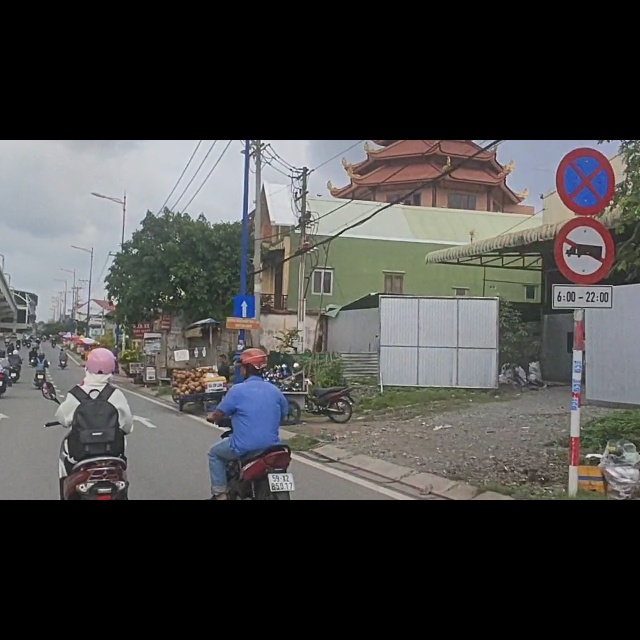bien_cam: (554, 137, 614, 258), (557, 14, 614, 134), (233, 275, 257, 318)
